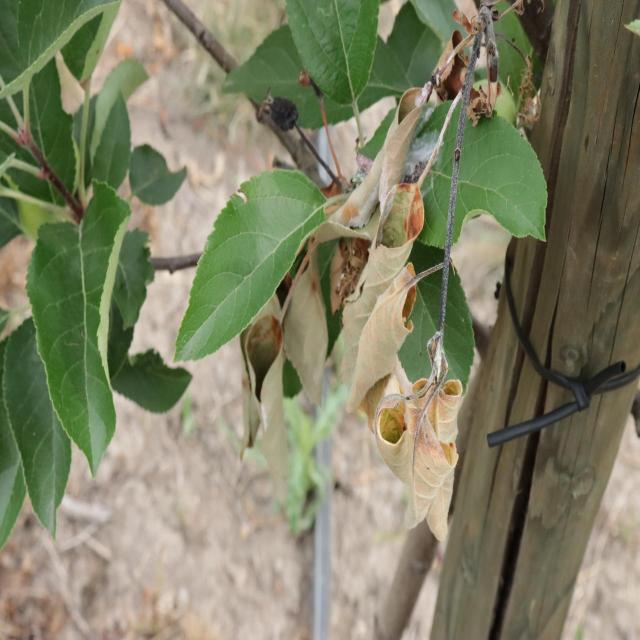-FireBlight-: (226, 31, 505, 546)
